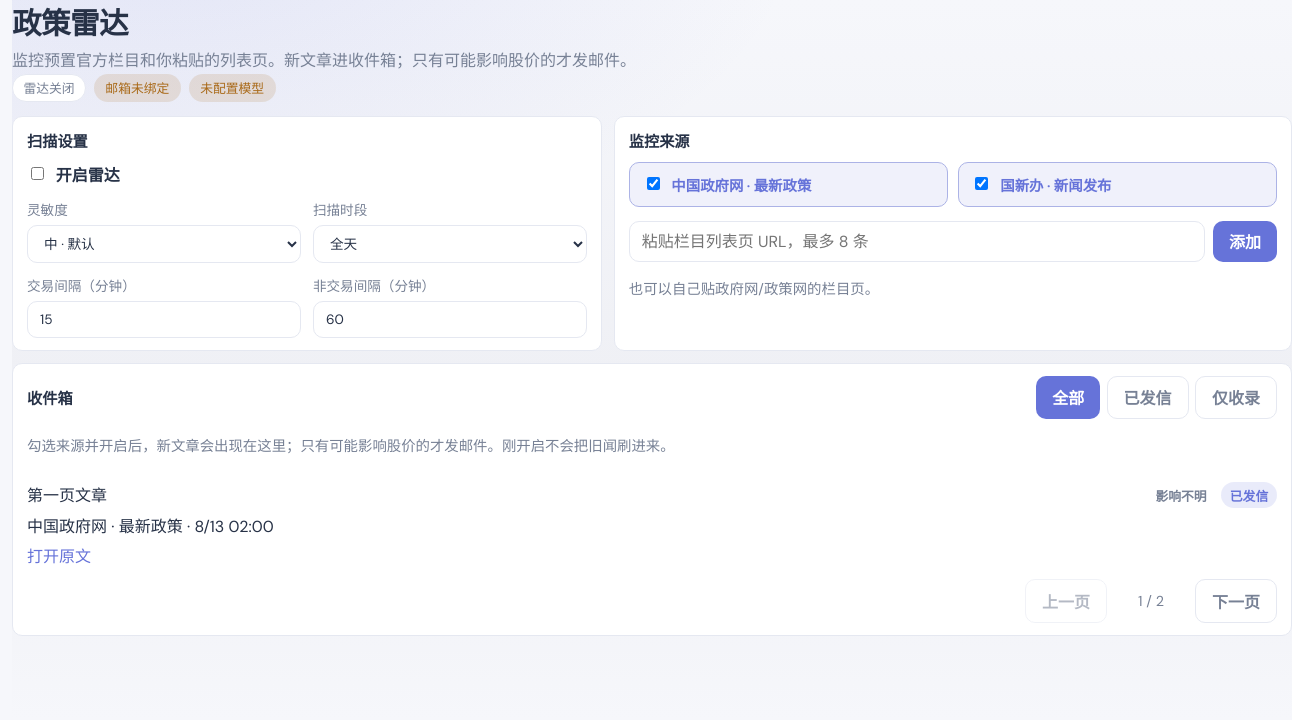
it: 收件箱可翻到下一页
Expected: the text "第一页文章" is shown, [27,482,107,506]
Expected: the text "1 / 2" is shown, [1138,592,1164,610]
Step 1. Click the button "下一页" → (1236, 601), box [1195,579,1277,623]
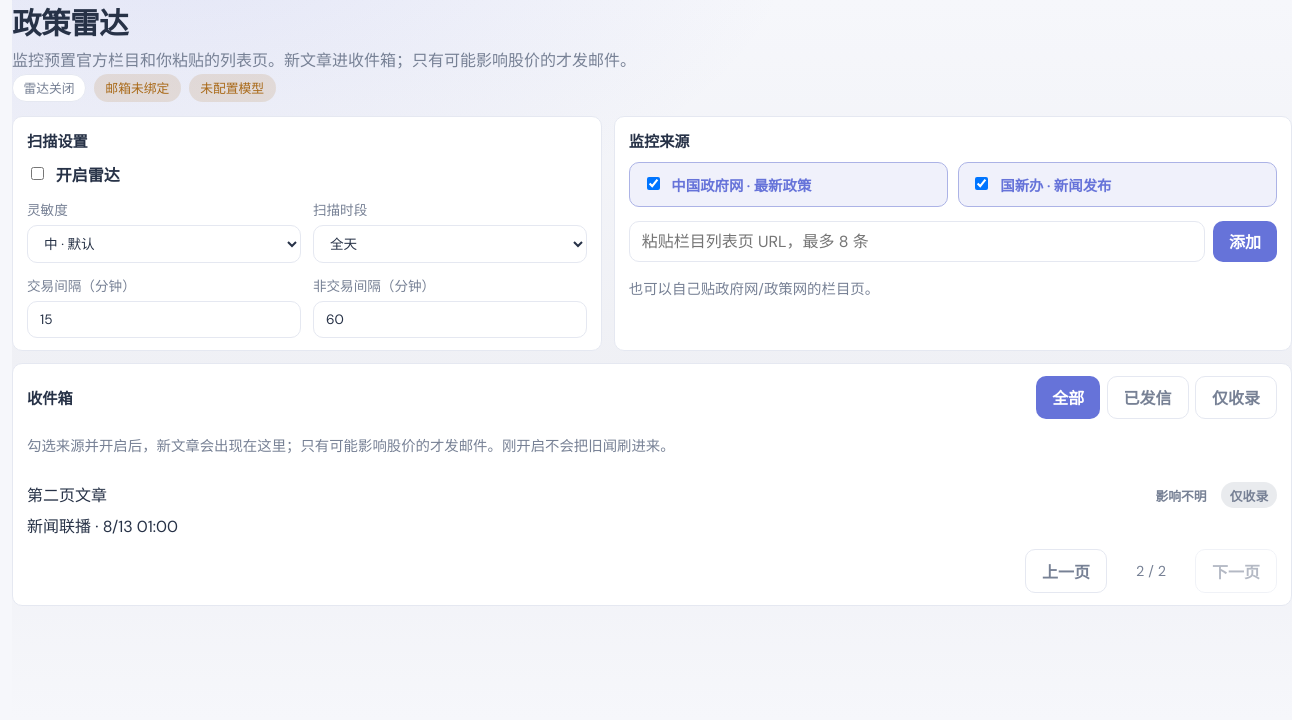
Expected: the text "第二页文章" is shown, [27,482,107,506]
